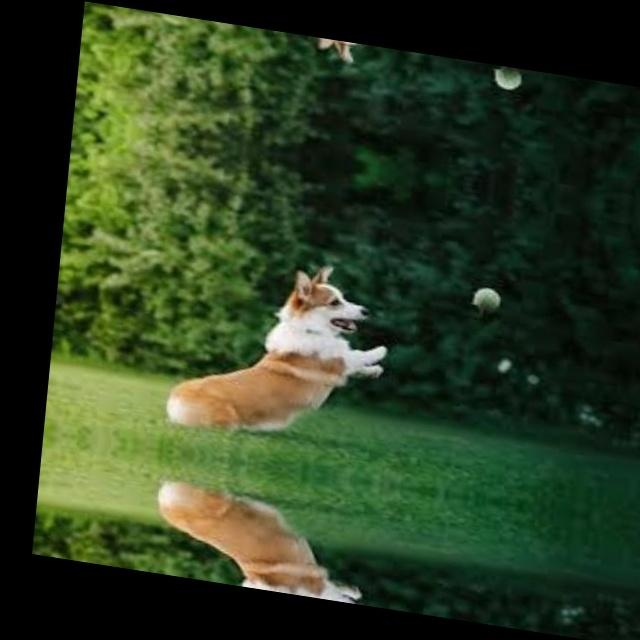dog: (157, 227, 416, 485), (145, 451, 394, 608), (194, 19, 435, 89)
